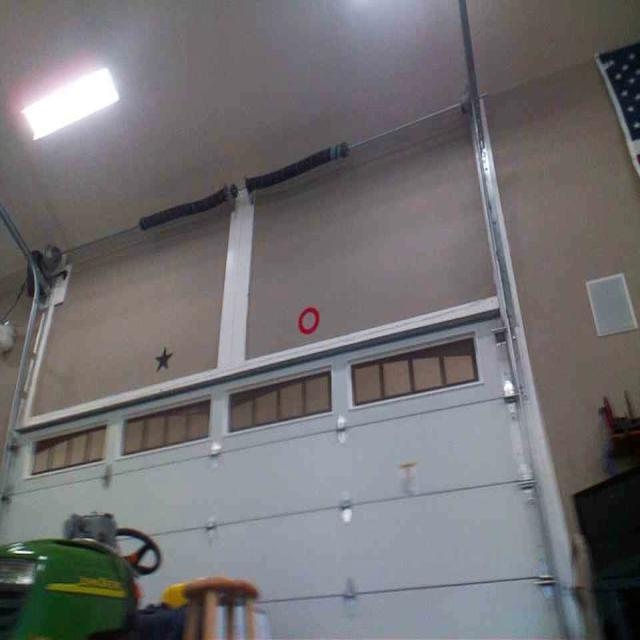ring_red: (297, 305, 319, 334)
star_black: (154, 345, 174, 373)
